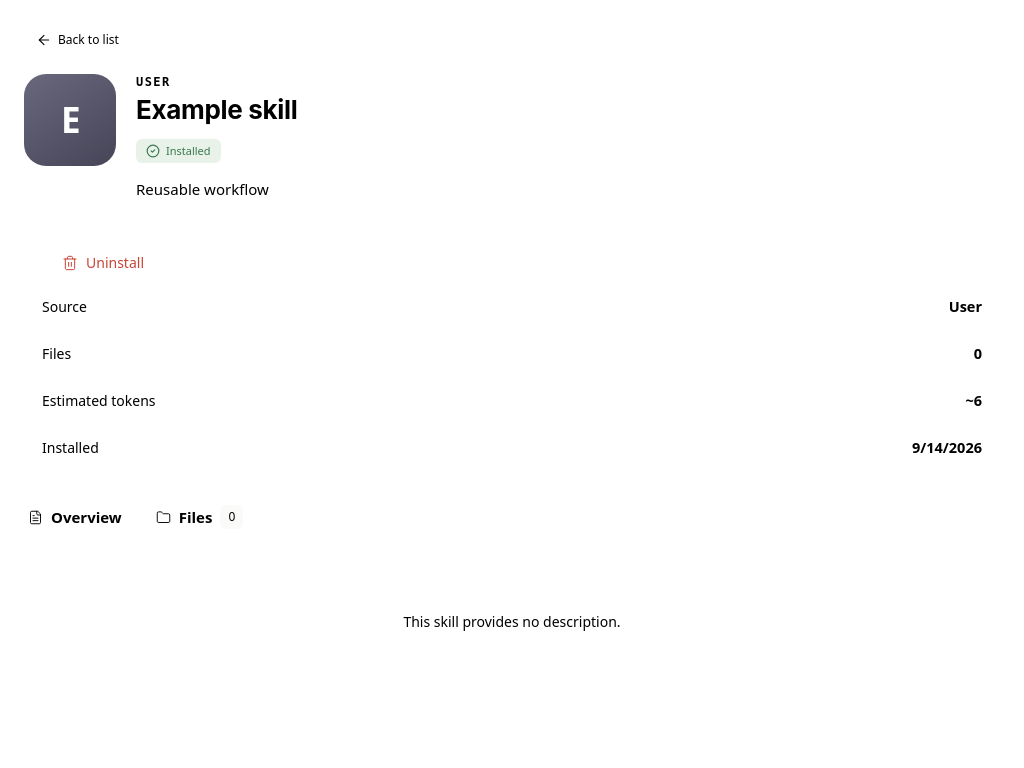
Test: InstalledSkills › uninstalls a market skill through the existing confirmation flow and refreshes its project
What coordinates should you click on to do the following:
click the button with test id "local-skill-uninstall-button"
I would click on:
 (103, 263)
Its box is [42,243,164,283].
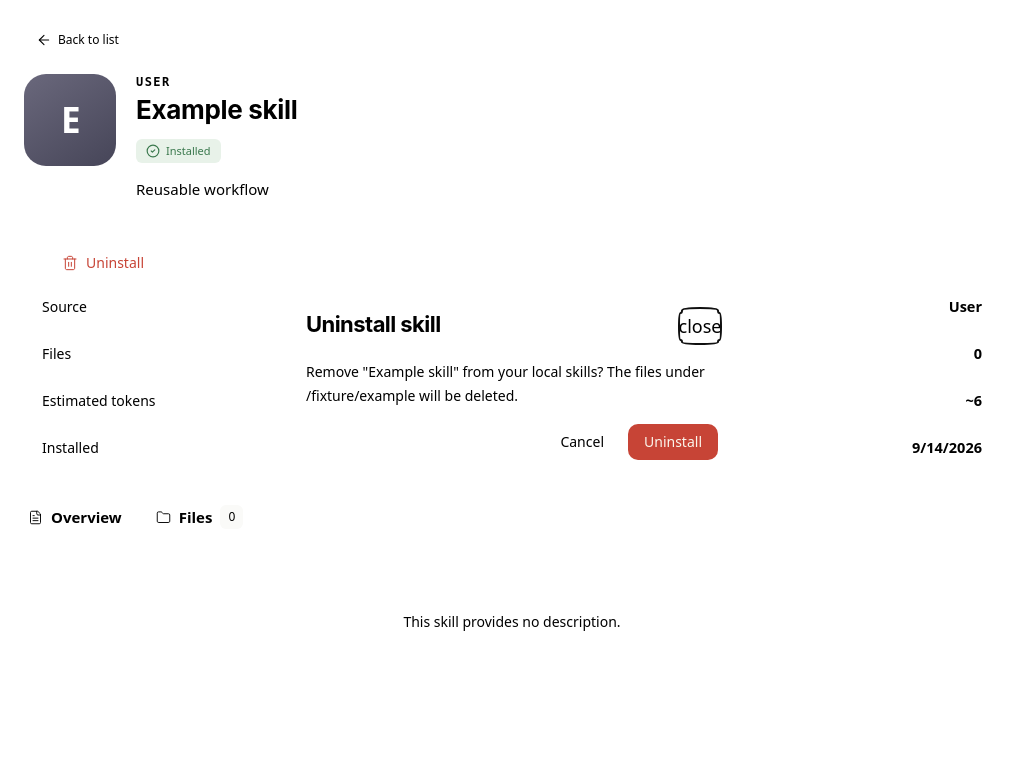
What coordinates should you click on to do the following:
click the button "Uninstall"
I would click on:
 (673, 442)
Its box is [628,424,718,460].
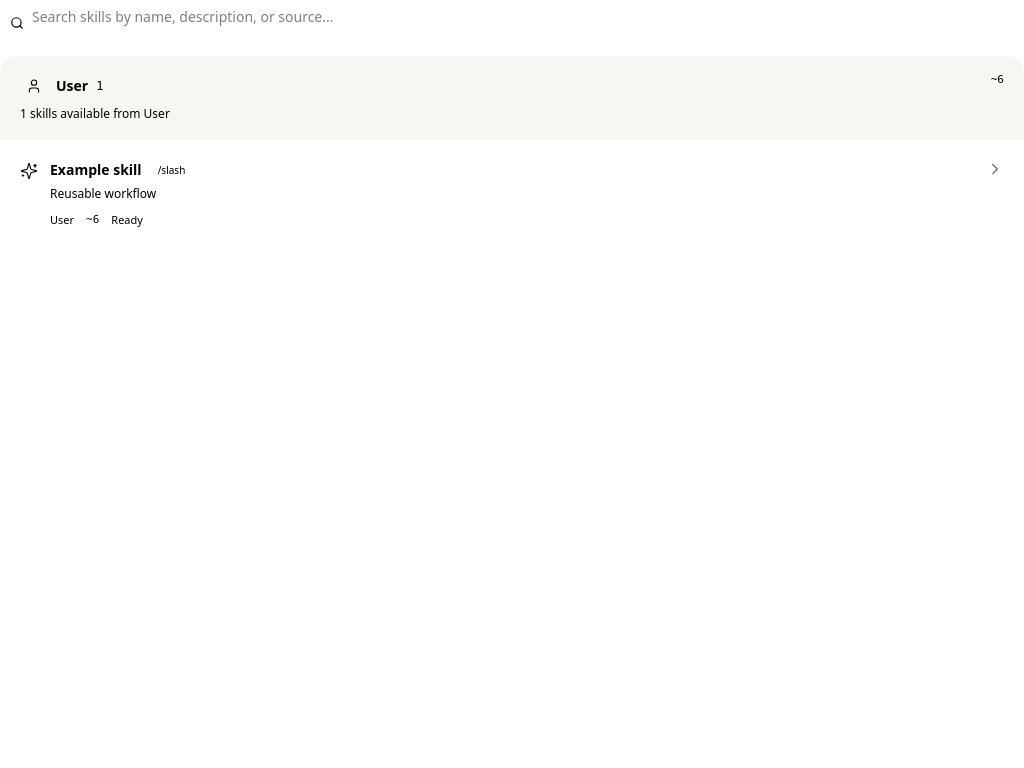
Expected: the search field is shown, [0,0,1023,32]
